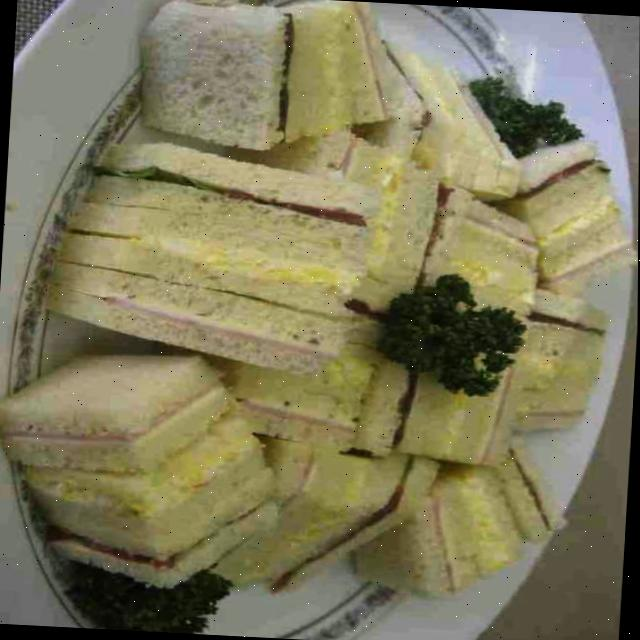三明治: (6, 0, 638, 603)
